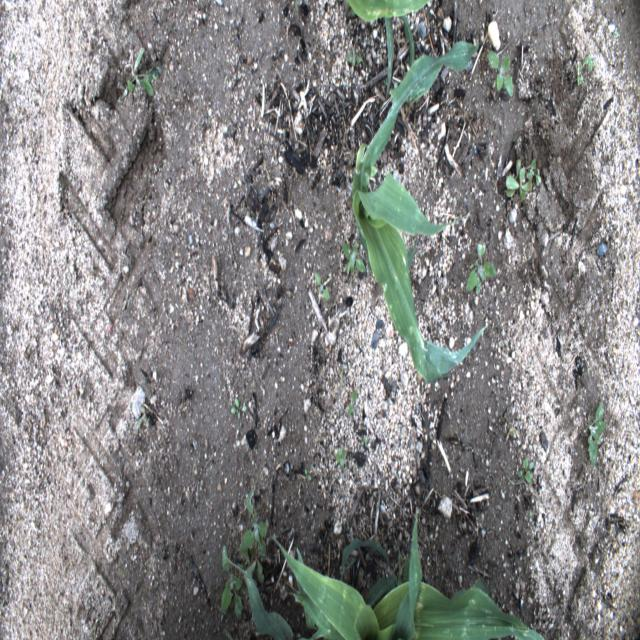crop: (348, 36, 488, 388), (220, 510, 545, 638), (344, 0, 434, 84)
weed: (120, 44, 164, 104), (463, 232, 503, 287), (239, 495, 271, 562), (502, 154, 543, 204), (585, 399, 607, 481), (485, 50, 513, 100), (222, 569, 243, 616), (514, 452, 536, 494), (334, 441, 352, 480), (312, 277, 331, 300)
